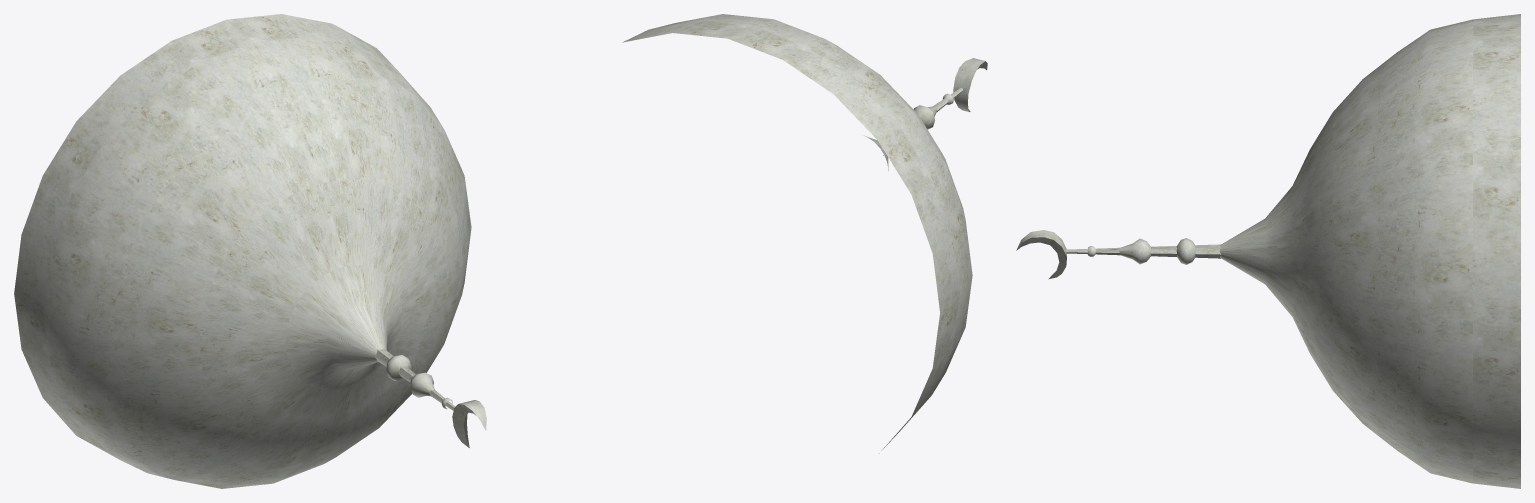
Rendered from dome_05.glb.
3 views of the same model, side by side, from view 1: azimuth 30°, elevation 25°; view 2: azimuth 150°, elevation 25°; view 3: azimuth 270°, elevation 25° (orthographic). The views are drawn at different scales.
Bounding box in the file's own units: 314 × 314 × 332.
Materials: 1 (1 with a texture image).
